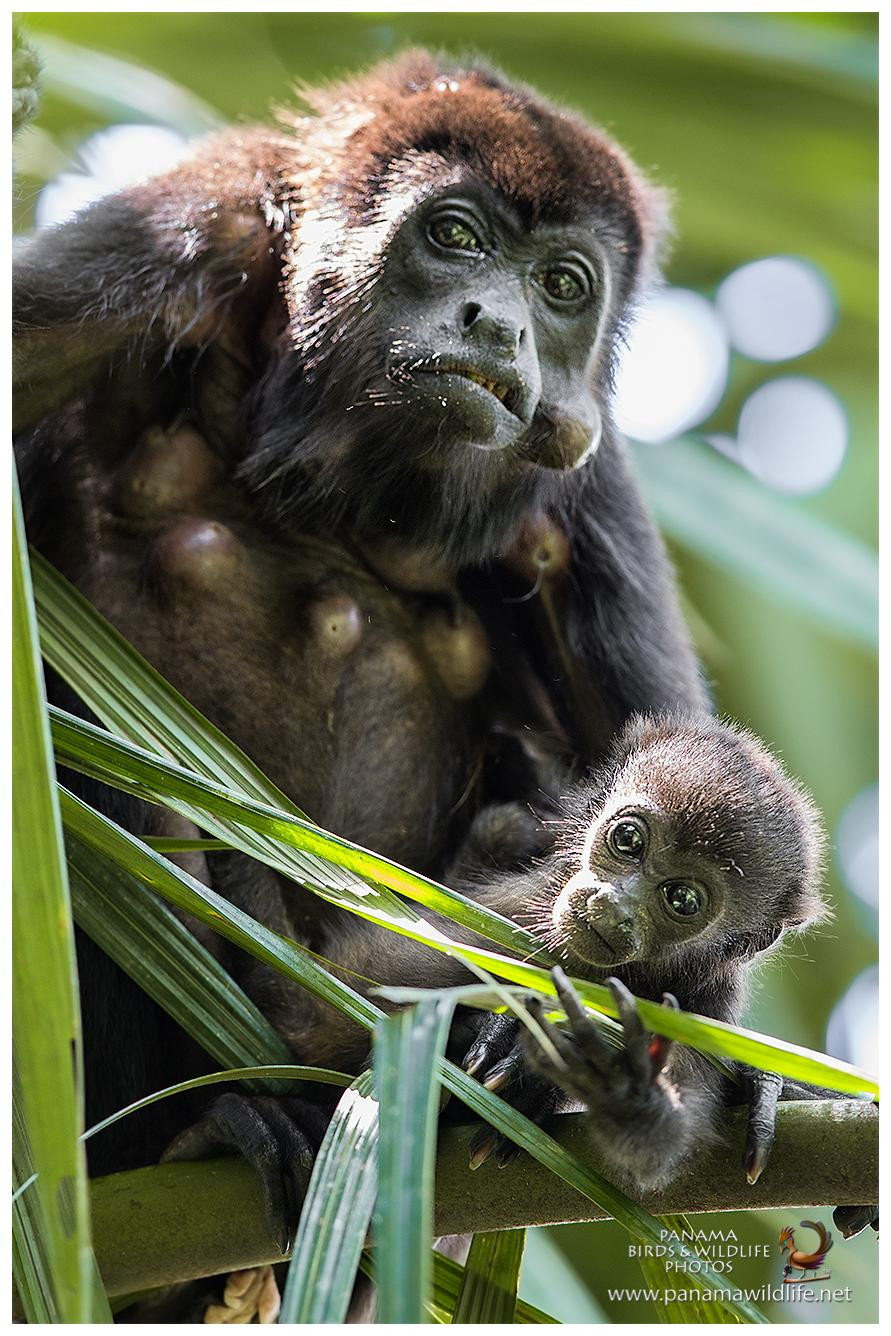monkey: (15, 69, 833, 1022)
